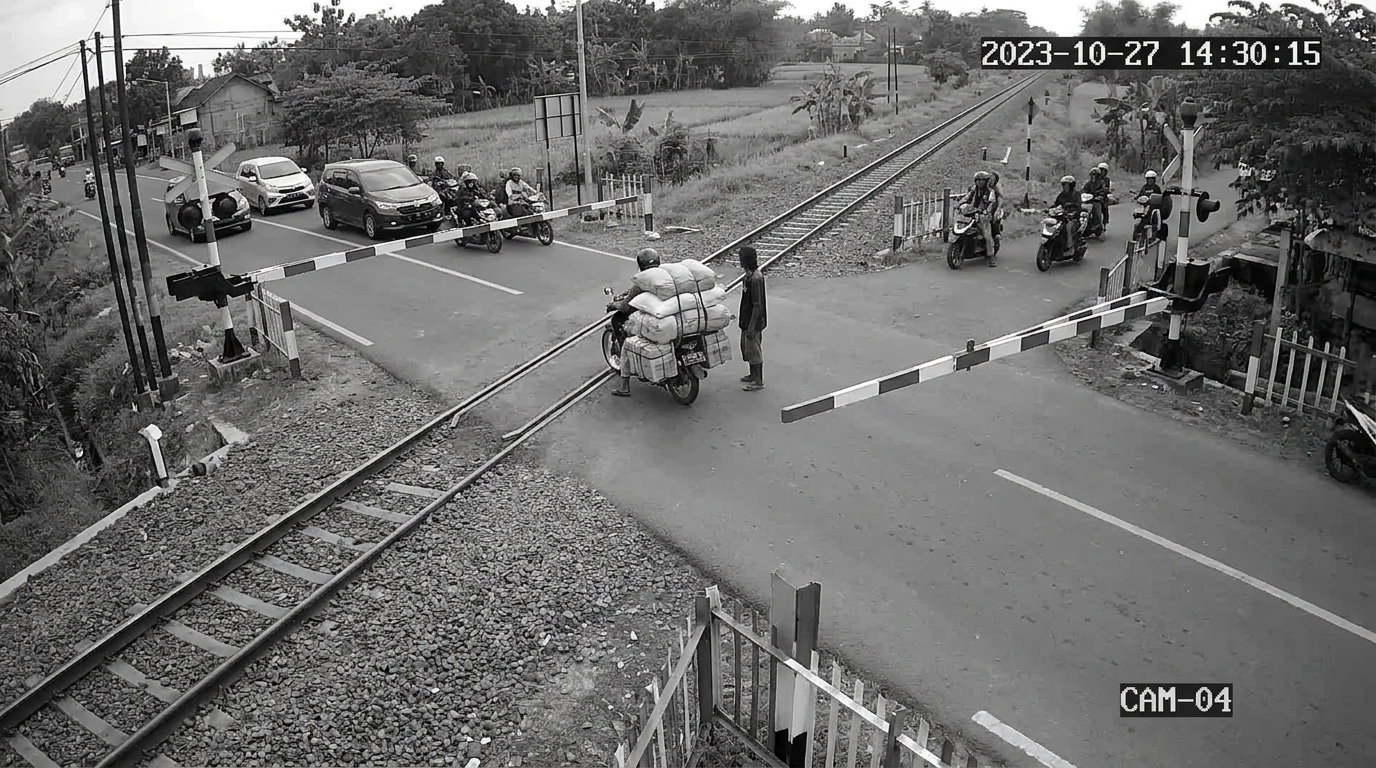danger: (781, 292, 1168, 422), (241, 192, 652, 282), (603, 249, 734, 404), (740, 246, 767, 388)
